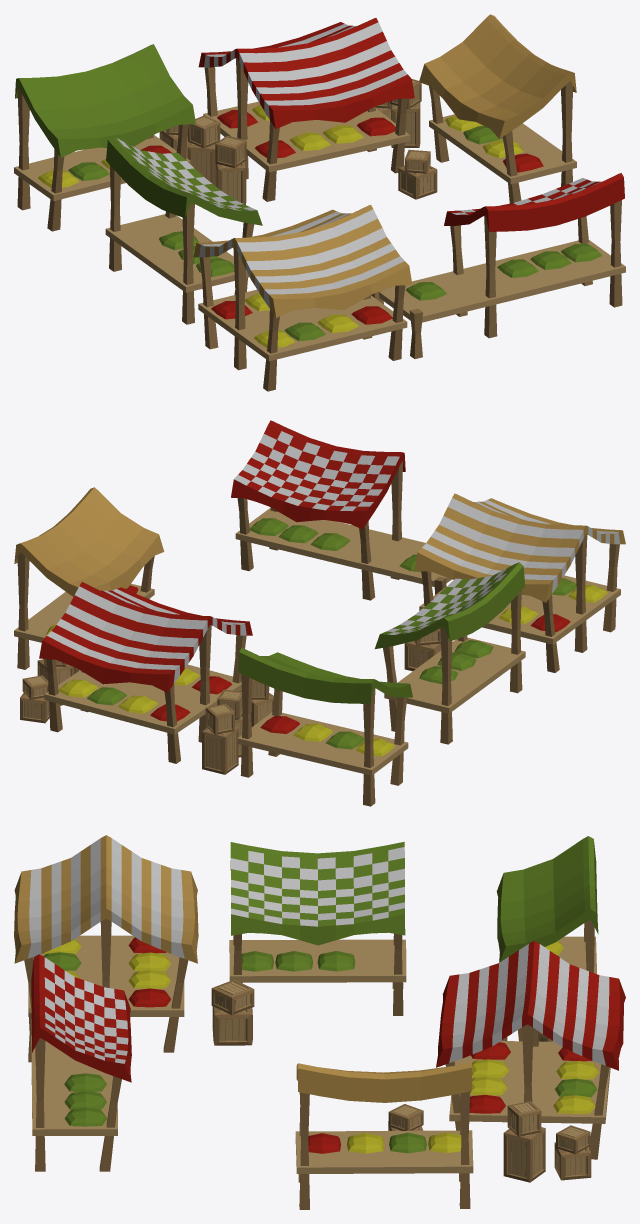
The model's file is m_market.glb.
3 renders of one model, top to bottom at view 1: azimuth 30°, elevation 25°; view 2: azimuth 150°, elevation 25°; view 3: azimuth 270°, elevation 25°, orthographic. The views are drawn at different scales.
Visible parts, largest first — view 1: Market_FirstAge_Level3; view 2: Market_FirstAge_Level3; view 3: Market_FirstAge_Level3.
Boxes of the visible parts, box(x1,y1,x2,y2) form: Market_FirstAge_Level3: box(14, 14, 625, 391); Market_FirstAge_Level3: box(14, 420, 625, 806); Market_FirstAge_Level3: box(14, 835, 625, 1209).
Bounding box in the file's own units: 1.89 × 0.5527 × 2.11.
